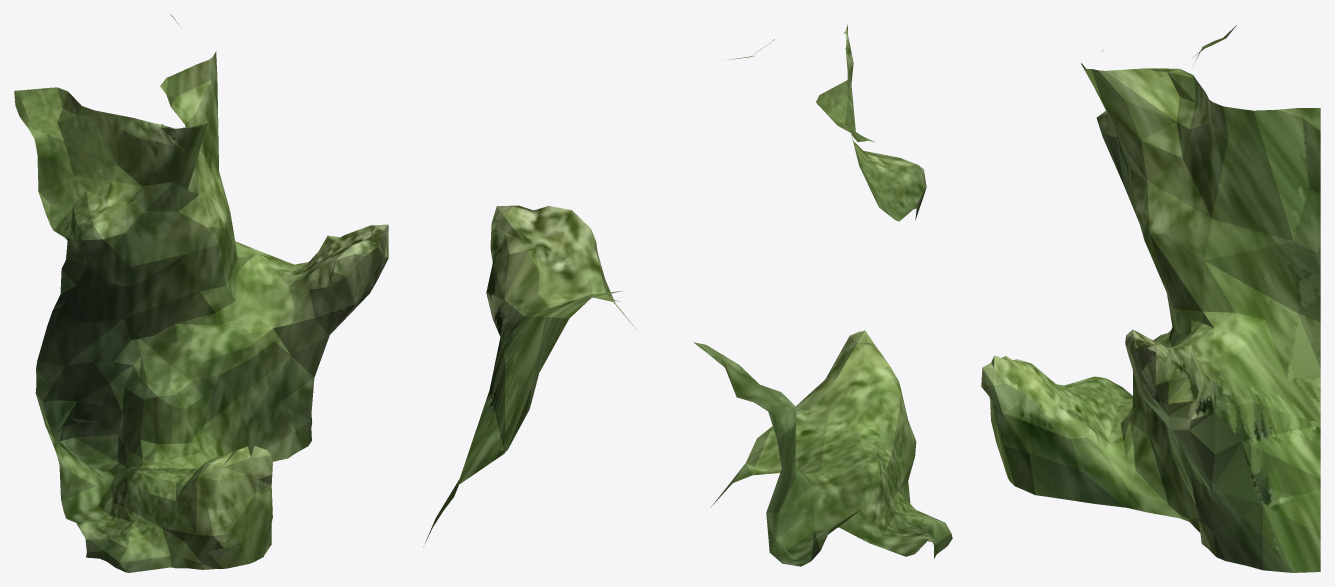
3 views of the same model, side by side, from view 1: azimuth 30°, elevation 25°; view 2: azimuth 150°, elevation 25°; view 3: azimuth 270°, elevation 25° (orthographic). The views are drawn at different scales.
Size of the model in its own units: 2.46 by 2.95 by 2.22.
3 materials, 3 textured.
